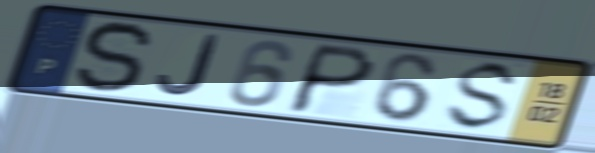6: (369, 51, 443, 127), (226, 37, 295, 109)
J: (154, 32, 225, 99)
P: (281, 41, 381, 117)
S: (71, 19, 158, 96), (441, 59, 526, 134)
